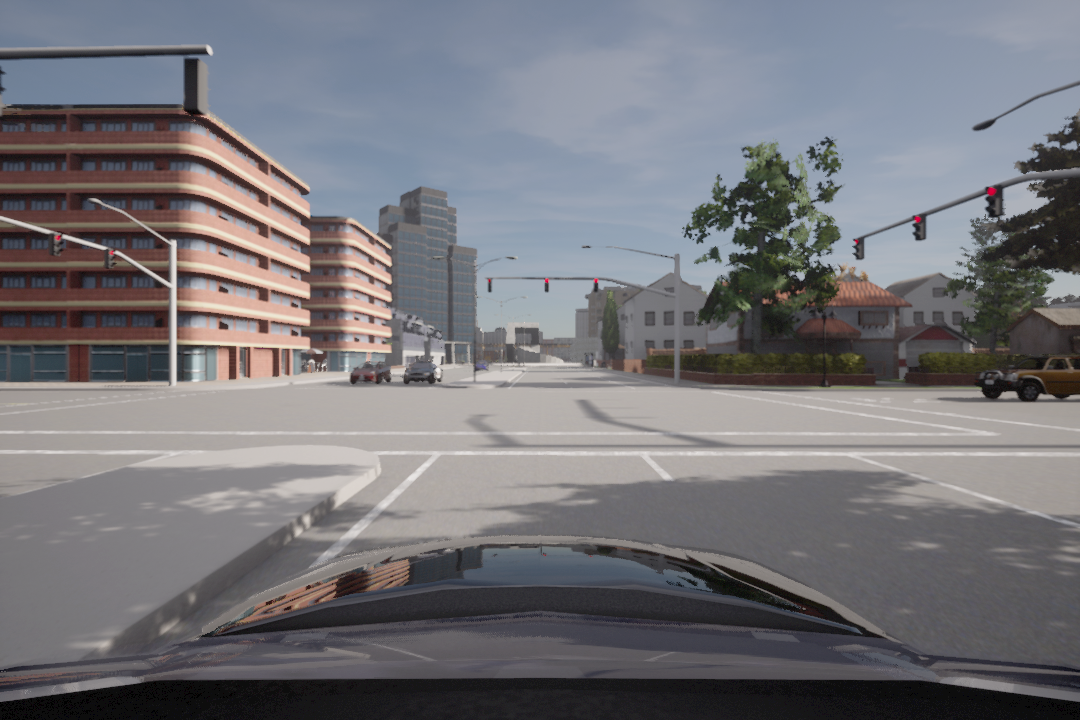TrafficLight: (981, 184, 1004, 219), (908, 212, 932, 242), (847, 232, 868, 262), (47, 233, 65, 259), (105, 244, 115, 270), (485, 277, 497, 297), (541, 277, 551, 294), (591, 275, 599, 295)
